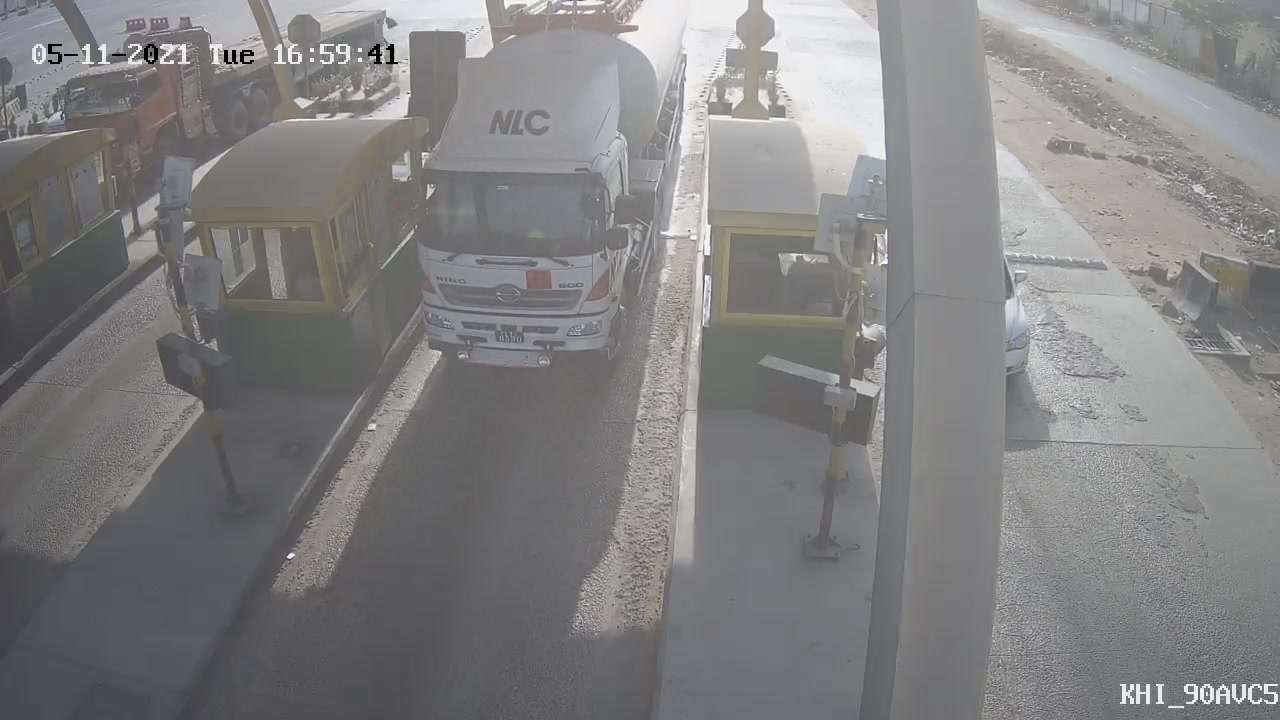F6: (361, 1, 711, 394)
